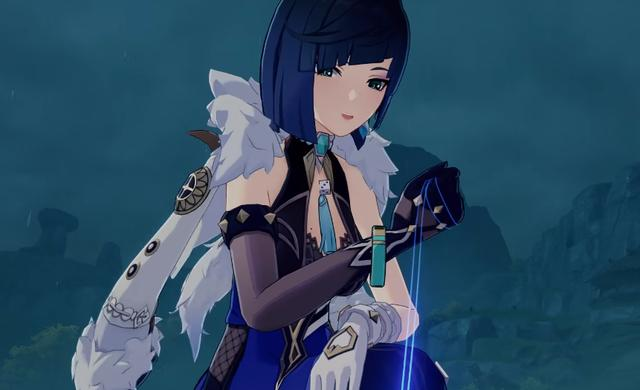夜兰: (214, 1, 467, 390)
